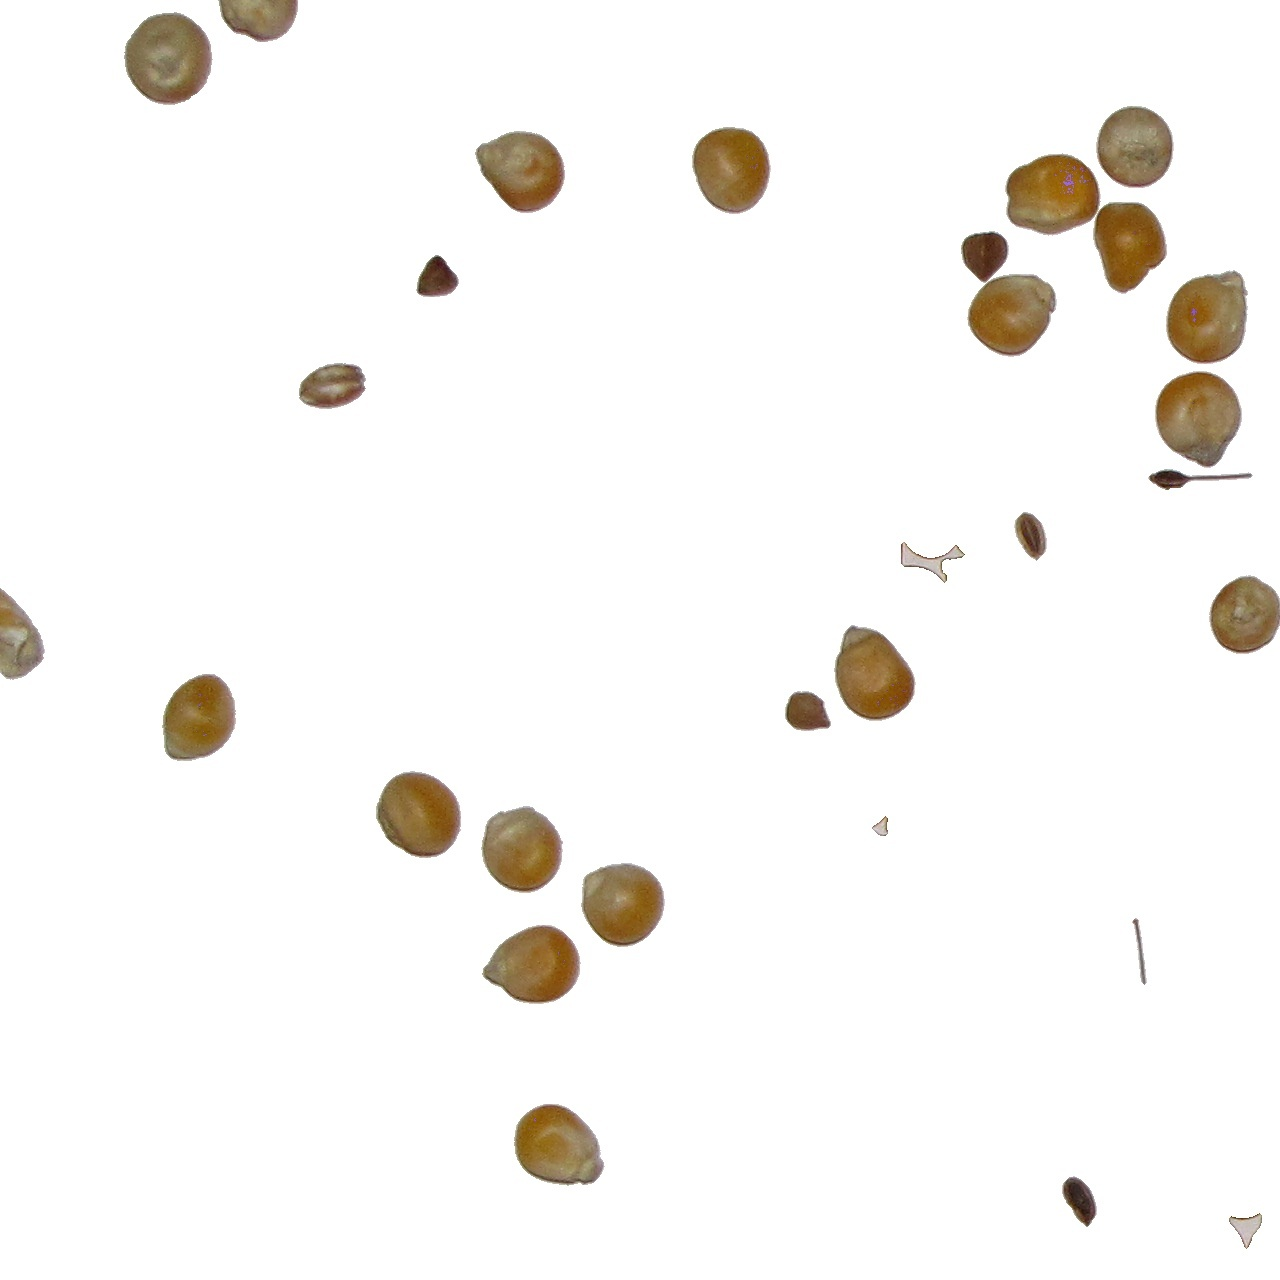buckwheat: (960, 230, 1010, 284), (1061, 1175, 1098, 1228), (415, 254, 459, 298), (1228, 1212, 1262, 1250), (1131, 917, 1148, 986), (871, 815, 888, 837)
dill: (894, 542, 960, 584), (1013, 511, 1048, 561)
mais: (123, 11, 215, 105), (1155, 370, 1242, 469), (481, 924, 583, 1005), (1005, 152, 1102, 237), (833, 624, 917, 722), (1165, 268, 1250, 365), (474, 130, 566, 215), (966, 273, 1058, 358), (513, 1103, 606, 1187), (375, 770, 462, 859), (580, 862, 666, 948), (481, 805, 564, 894), (692, 125, 772, 215), (1092, 200, 1167, 295), (161, 673, 237, 762), (1095, 105, 1175, 189), (1208, 574, 1280, 655), (1, 594, 43, 682), (215, 1, 300, 41)
other: (306, 362, 367, 411), (1148, 468, 1254, 491), (784, 690, 832, 731)
